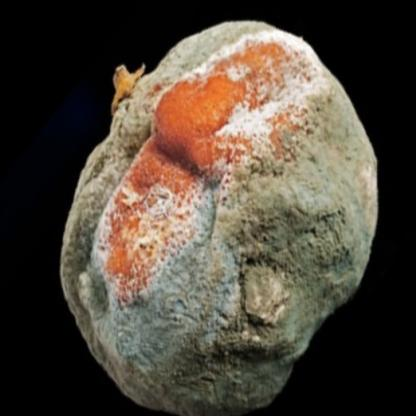rotten: (63, 19, 378, 416)
